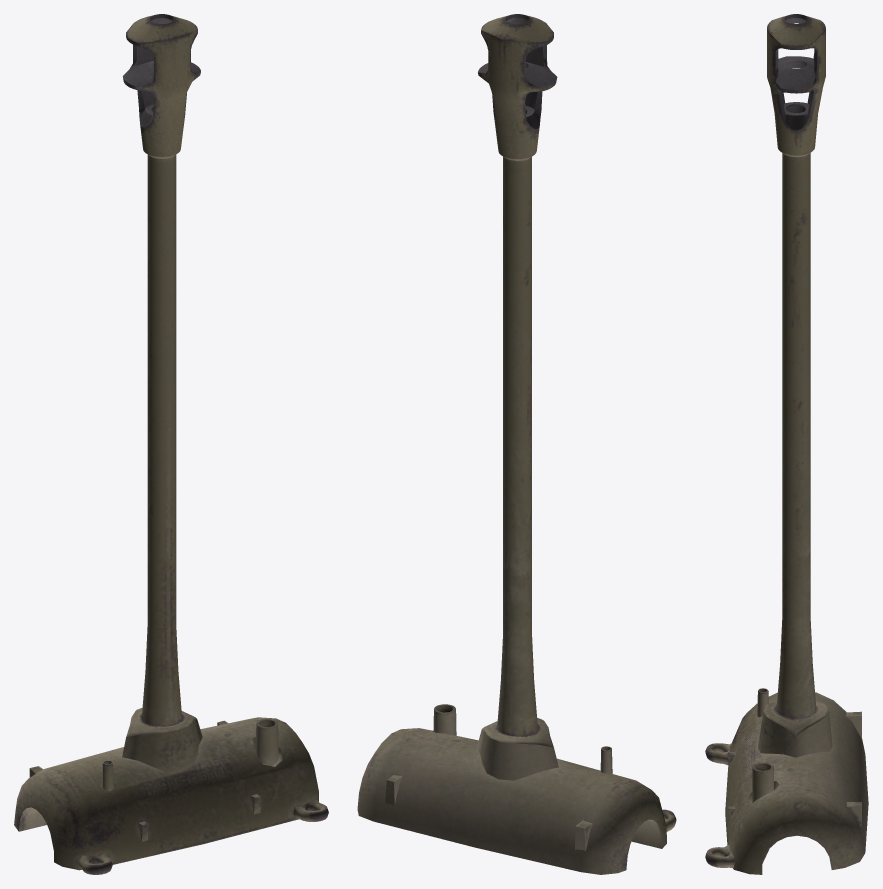
The model's file is Gun_02.glb.
3 renders of one model, left to right at view 1: azimuth 30°, elevation 25°; view 2: azimuth 150°, elevation 25°; view 3: azimuth 270°, elevation 25°, orthographic. The views are drawn at different scales.
Parts seen in each view (by area): view 1: set_0_group_0; view 2: set_0_group_0; view 3: set_0_group_0.
Part boxes in pixels (x1,y1,x2,y2): set_0_group_0: (14, 14, 328, 874); set_0_group_0: (357, 14, 676, 874); set_0_group_0: (705, 14, 868, 874).
Bounding box in the file's own units: 1.39 × 4.08 × 0.7627.
Materials: 1 (1 with a texture image).
